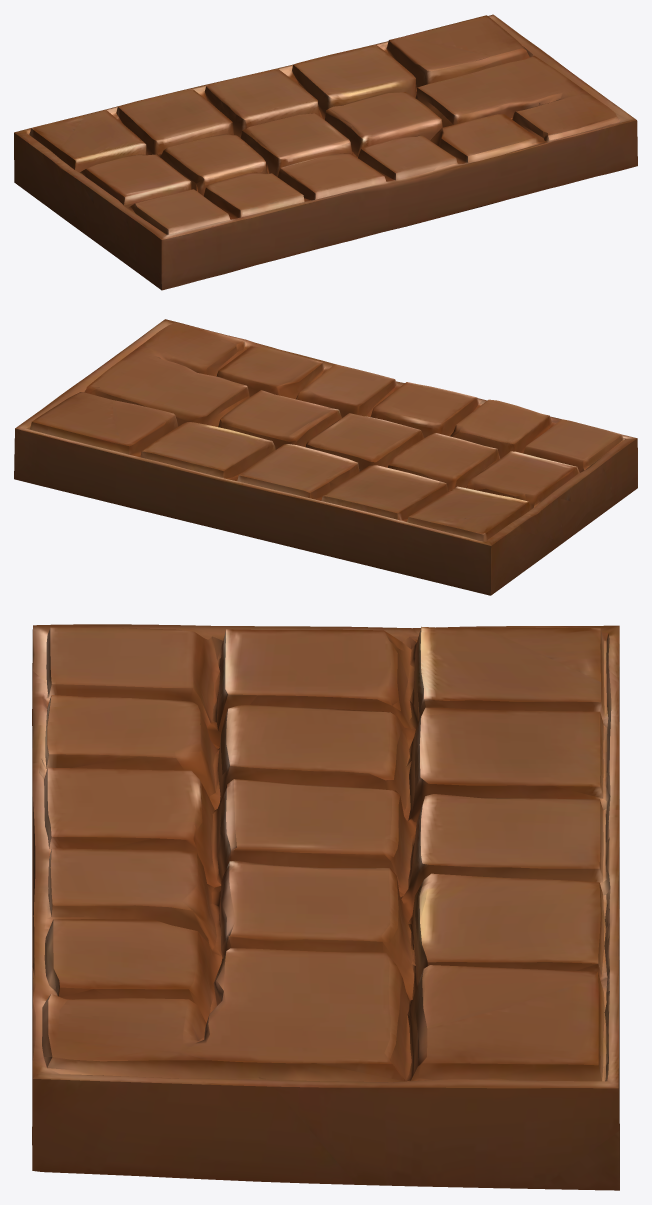
The model's file is m2ChocoBarPlatform.glb.
3 views of the same model, one above another, from view 1: azimuth 30°, elevation 25°; view 2: azimuth 150°, elevation 25°; view 3: azimuth 270°, elevation 25° (orthographic). The views are drawn at different scales.
Parts seen in each view (by area): view 1: model; view 2: model; view 3: model.
Boxes of the visible parts, x1,y1,x2,y2 form: model: (14, 14, 637, 290); model: (14, 319, 637, 595); model: (32, 624, 619, 1190).
Bounding box in the file's own units: 1.9 × 0.2194 × 1.01.
1 material, 1 textured.
